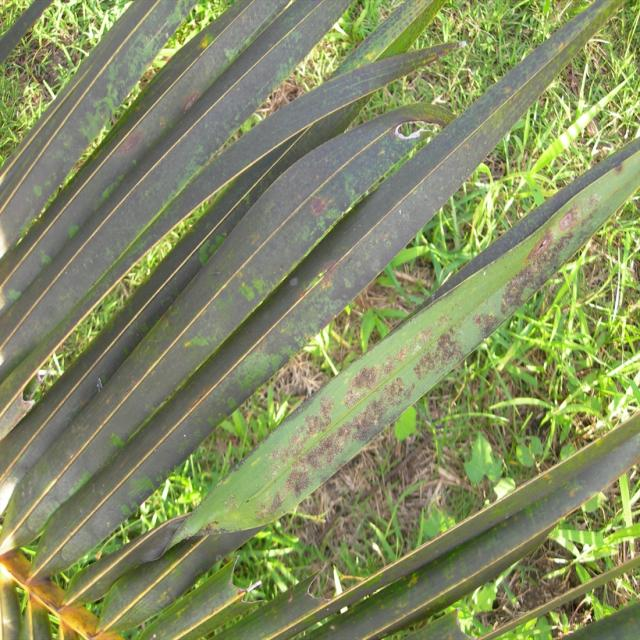Sooty Mold: (1, 1, 638, 637)
